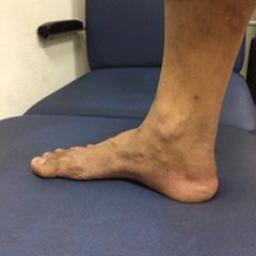Medial View -Right Foot-: (25, 78, 238, 206)
